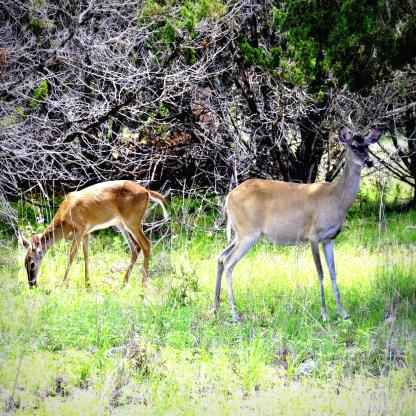Deer: (212, 123, 382, 334), (18, 180, 171, 295)
